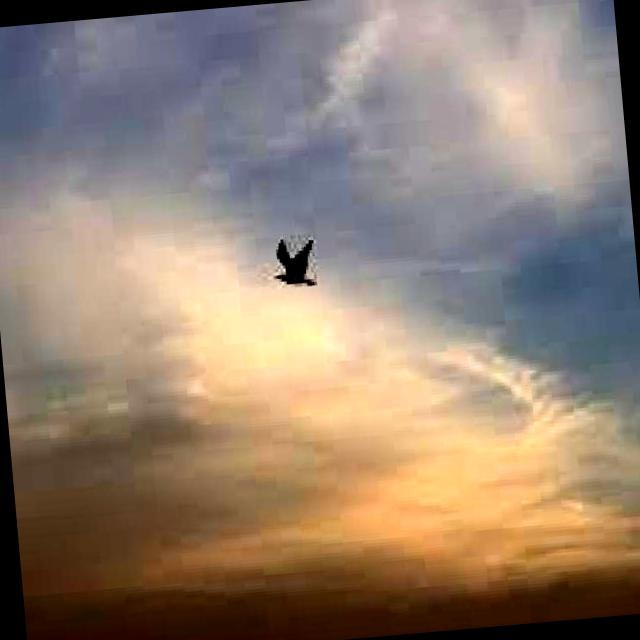bird: (262, 226, 322, 294)
